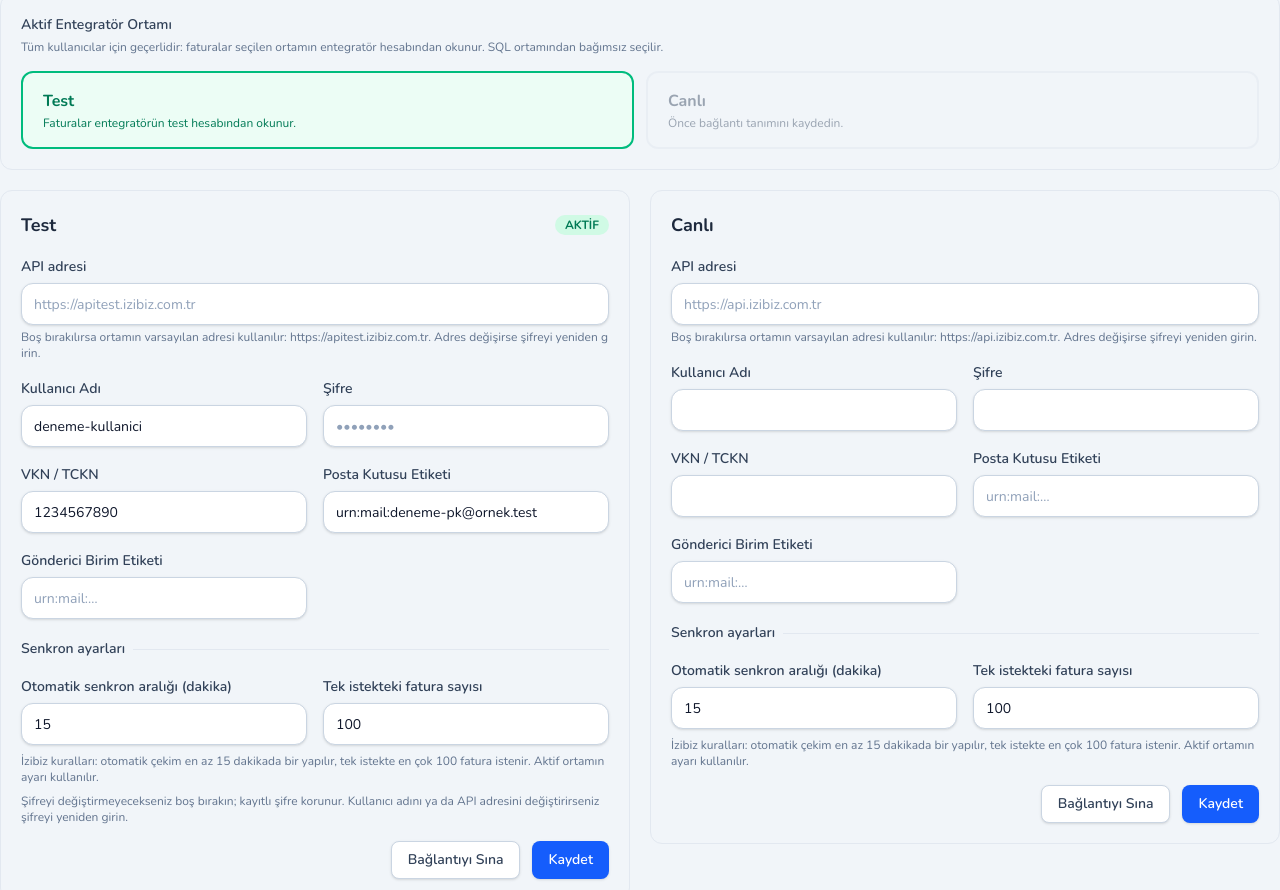
Test case: EntegratorBaglantilariPage › sınama kimlik hatasında çevrilmiş mesajı gösterir
(page scrolled)
Check: the 2nd field showing "deneme-kullanici" is shown, box [21,405,307,447]
Click the 2nd button "Bağlantıyı Sına" at (456, 860), box [391,841,520,879]
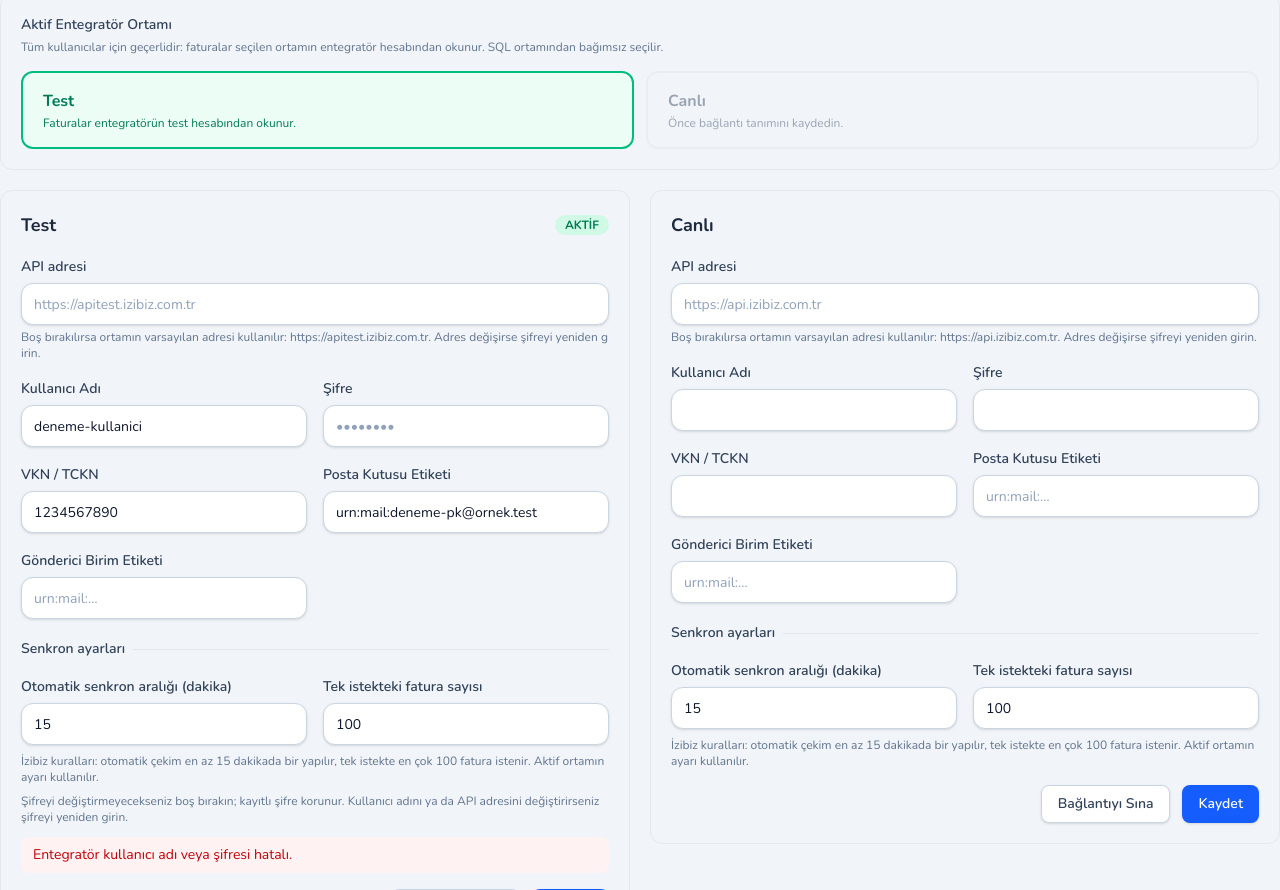
Check: the message reads "Entegratör kullanıcı adı veya şifresi hatalı.", box [33,845,292,864]
